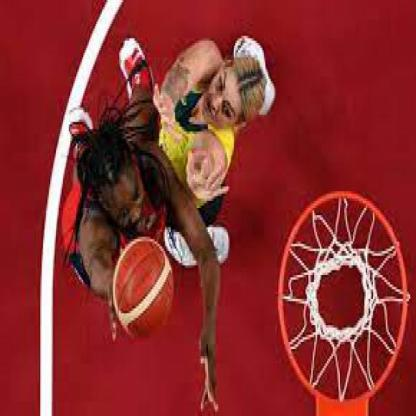basketball: (113, 237, 174, 339)
rim: (278, 189, 410, 402)
